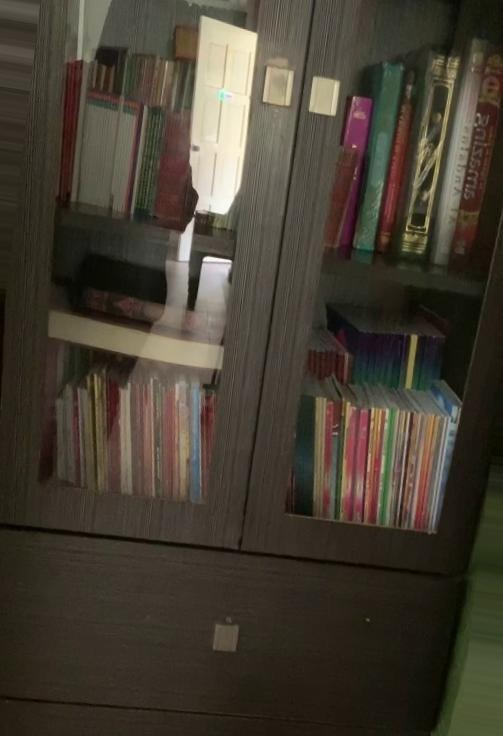Armario: (13, 13, 493, 714)
